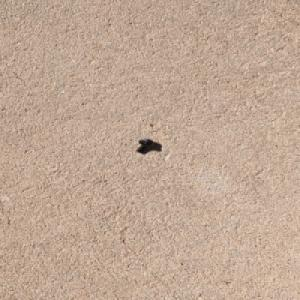BoltWasher: (134, 138, 155, 152)
